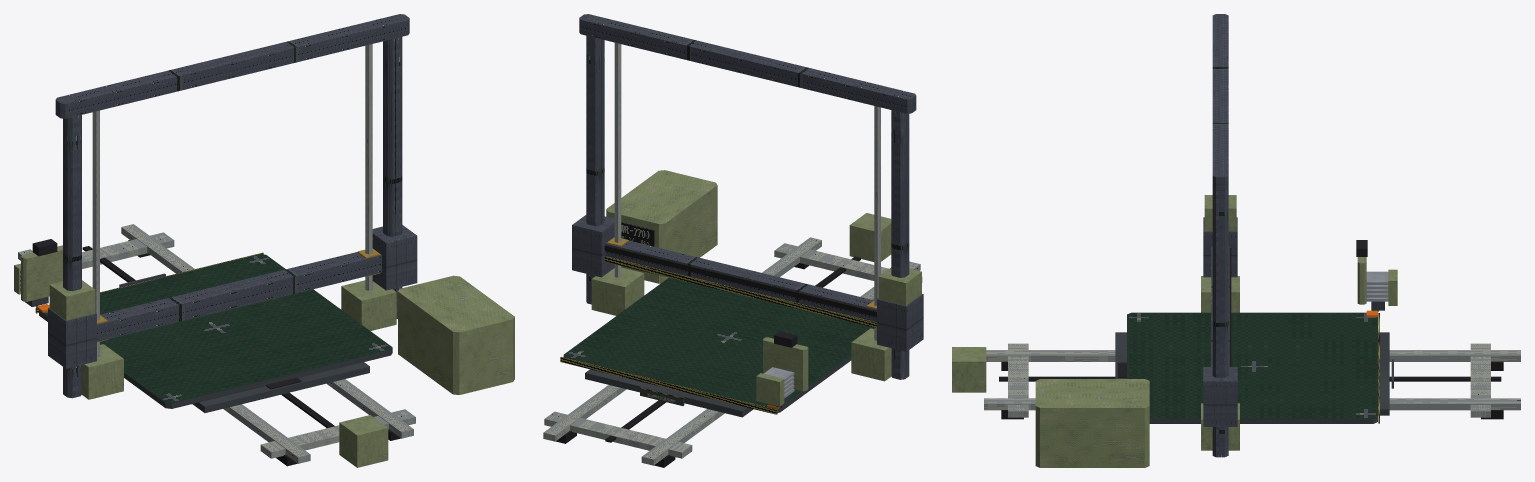
File: printer.glb
3 renders of one model, left to right at view 1: azimuth 30°, elevation 25°; view 2: azimuth 150°, elevation 25°; view 3: azimuth 270°, elevation 25°, orthographic. The views are drawn at different scales.
Parts seen in each view (by area): view 1: Frame_Static, Bed_Y, Gantry_X, Carriage_X, LeadScrew_R, LeadScrew_L; view 2: Frame_Static, Bed_Y, Gantry_X, Carriage_X, LeadScrew_R, LeadScrew_L; view 3: Frame_Static, Bed_Y, Gantry_X, Carriage_X.
Part boxes in pixels (x1=…): Frame_Static: x1=18, y1=14, x2=514, y2=467; Bed_Y: x1=35, y1=252, x2=392, y2=412; Gantry_X: x1=48, y1=225, x2=417, y2=368; Carriage_X: x1=14, y1=239, x2=62, y2=307; LeadScrew_R: x1=365, y1=44, x2=372, y2=290; LeadScrew_L: x1=92, y1=110, x2=99, y2=357; Frame_Static: x1=543, y1=14, x2=922, y2=467; Bed_Y: x1=560, y1=277, x2=874, y2=417; Gantry_X: x1=572, y1=215, x2=923, y2=351; Carriage_X: x1=756, y1=331, x2=808, y2=408; LeadScrew_R: x1=614, y1=42, x2=621, y2=277; LeadScrew_L: x1=874, y1=106, x2=880, y2=340; Frame_Static: x1=952, y1=14, x2=1520, y2=467; Bed_Y: x1=1115, y1=310, x2=1393, y2=423; Gantry_X: x1=1203, y1=195, x2=1237, y2=426; Carriage_X: x1=1356, y1=240, x2=1397, y2=311.
Bounding box in the file's own units: 352 × 286 × 498.
Materials: 1 (1 with a texture image).
